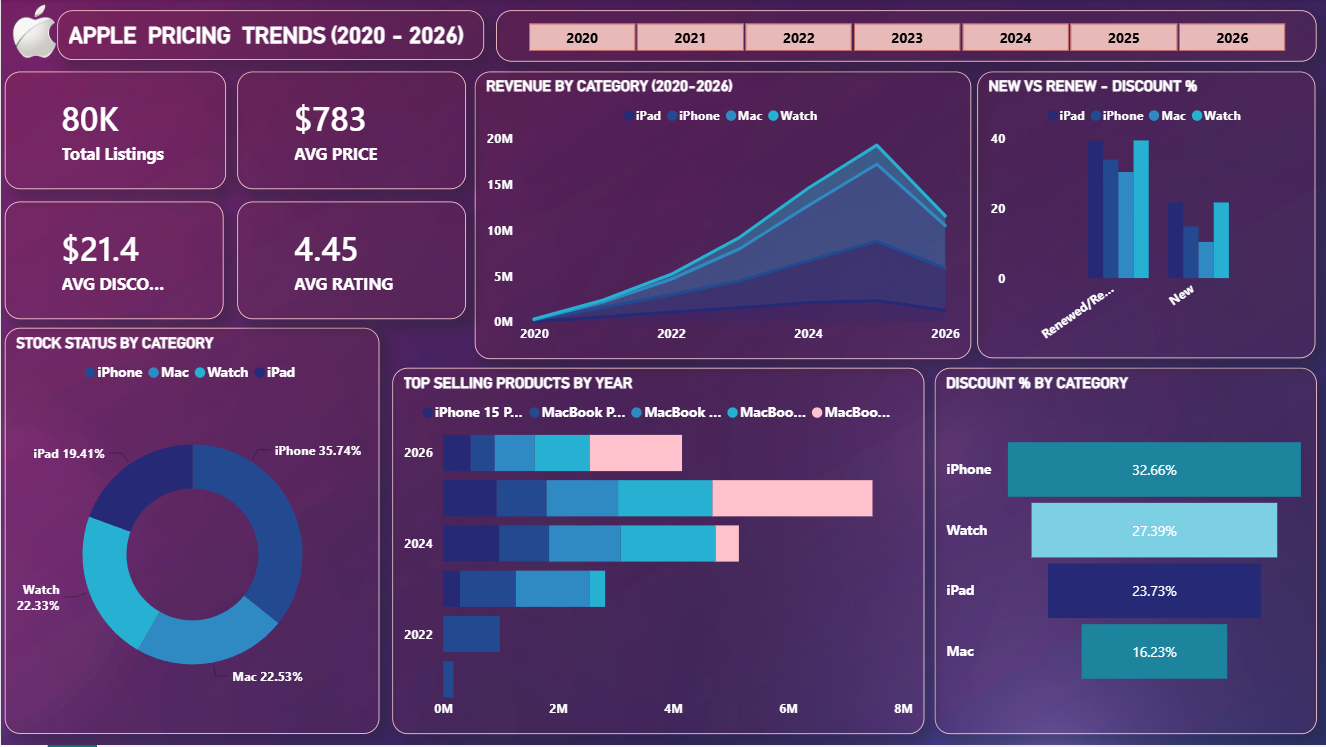

The dashboard page shown, as its layout file describes it:
{"tool":"powerbi","page":{"name":"Page 1","canvas":[1280,720],"ordinal":0},"visuals":[{"type":"stackedAreaChart","title":"REVENUE BY CATEGORY (2020-2026)","fields":{"Category":["apple_products_pricing_2020_2026_CSV.Date.Variation.Date Hierarchy.Year"],"Y":["Sum(apple_products_pricing_2020_2026_CSV.Current_Price_USD)"],"Series":["apple_products_pricing_2020_2026_CSV.Product_Category"]},"box":[457.2,70,479,277.5],"z":0},{"type":"funnel","title":"DISCOUNT % BY CATEGORY","fields":{"Category":["apple_products_pricing_2020_2026_CSV.Product_Category"],"Y":["Divide(Sum(apple_products_pricing_2020_2026_CSV.Discount_Pct), ScopedEval(Sum(apple_products_pricing_2020_2026_CSV.Disco"]},"box":[901.2,355.9,369.2,353.5],"z":1000},{"type":"barChart","title":"TOP SELLING PRODUCTS BY YEAR ","fields":{"Series":["apple_products_pricing_2020_2026_CSV.Model_Name"],"Category":["apple_products_pricing_2020_2026_CSV.Date.Variation.Date Hierarchy.Year"],"Y":["Sum(apple_products_pricing_2020_2026_CSV.Current_Price_USD)"]},"box":[377.6,355.9,513.9,353.5],"z":2000},{"type":"clusteredColumnChart","title":"NEW VS RENEW - DISCOUNT %","fields":{"Category":["apple_products_pricing_2020_2026_CSV.Condition"],"Y":["Avg(apple_products_pricing_2020_2026_CSV.Discount_Pct)"],"Series":["apple_products_pricing_2020_2026_CSV.Product_Category"]},"box":[942.7,70,326.6,277.2],"z":3000},{"type":"cardVisual","fields":{"Data":["apple_products_pricing_2020_2026_CSV.Total Listings"]},"box":[3.6,70,213.5,113.4],"z":4000},{"type":"cardVisual","fields":{"Data":["apple_products_pricing_2020_2026_CSV.AVG DISCOUNT"]},"box":[4.1,194.9,211.3,113.9],"z":5000},{"type":"donutChart","title":"STOCK STATUS BY CATEGORY","fields":{"Y":["CountNonNull(apple_products_pricing_2020_2026_CSV.Stock_Status)"],"Category":["apple_products_pricing_2020_2026_CSV.Product_Category"]},"box":[3.6,317.3,361.9,392.1],"z":6000},{"type":"cardVisual","fields":{"Data":["apple_products_pricing_2020_2026_CSV.AVG PRICE"]},"box":[228,70,220.8,113.4],"z":7000},{"type":"cardVisual","fields":{"Data":["apple_products_pricing_2020_2026_CSV.AVG RATING"]},"box":[227.8,194.9,220.9,113.9],"z":8000},{"type":"image","box":[0,4.1,64.5,54.9],"z":9000},{"type":"textbox","box":[54.9,11,411.7,48],"z":10000},{"type":"slicer","fields":{"Values":["apple_products_pricing_2020_2026_CSV.Date.Variation.Date Hierarchy.Year"]},"box":[477.5,11,791.8,49.4],"z":11000}]}

Visuals, with their boxes in screenshot pixels (x1, y1, x2, y2), scaled from the page's 1280x720 canvas onto the 1326x747 screenshot:
"REVENUE BY CATEGORY (2020-2026)" stackedAreaChart: box(474, 73, 970, 361)
"DISCOUNT % BY CATEGORY" funnel: box(934, 369, 1316, 736)
"TOP SELLING PRODUCTS BY YEAR " barChart: box(391, 369, 924, 736)
"NEW VS RENEW - DISCOUNT %" clusteredColumnChart: box(977, 73, 1315, 360)
cardVisual - apple_products_pricing_2020_2026_CSV.Total Listings: box(4, 73, 225, 190)
cardVisual - apple_products_pricing_2020_2026_CSV.AVG DISCOUNT: box(4, 202, 223, 320)
"STOCK STATUS BY CATEGORY" donutChart: box(4, 329, 379, 736)
cardVisual - apple_products_pricing_2020_2026_CSV.AVG PRICE: box(236, 73, 465, 190)
cardVisual - apple_products_pricing_2020_2026_CSV.AVG RATING: box(236, 202, 465, 320)
image: box(0, 4, 67, 61)
textbox: box(57, 11, 483, 61)
slicer - apple_products_pricing_2020_2026_CSV.Date.Variation.Date Hierarchy.Year: box(495, 11, 1315, 63)
